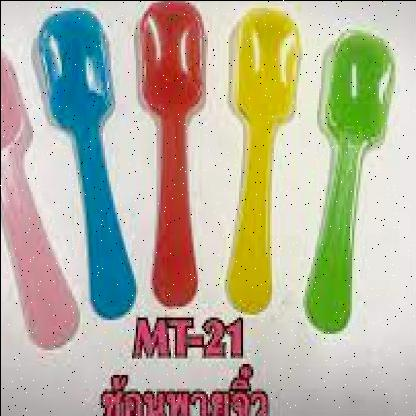Others: (1, 1, 402, 353)
